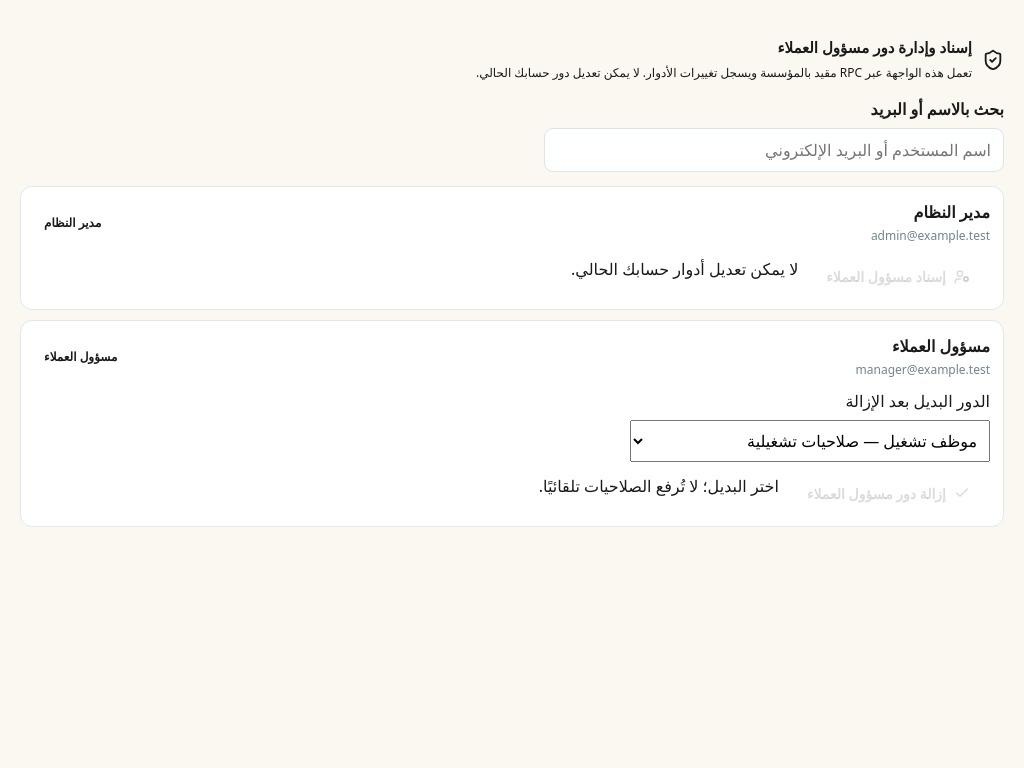
Scenario: customer-manager role assignment › requires an explicit replacement on removal and never reports an RPC failure as success
Expected: the button with aria-label "إزالة دور مسؤول العملاء من مسؤول العملاء" is disabled, left=787, top=474, right=990, bottom=513
Select "موظف تشغيل — صلاحيات تشغيلية" in the dropdown named "الدور البديل بعد إزالة مسؤول العملاء من مسؤول العملاء". click: (810, 441)
box: left=630, top=420, right=990, bottom=462
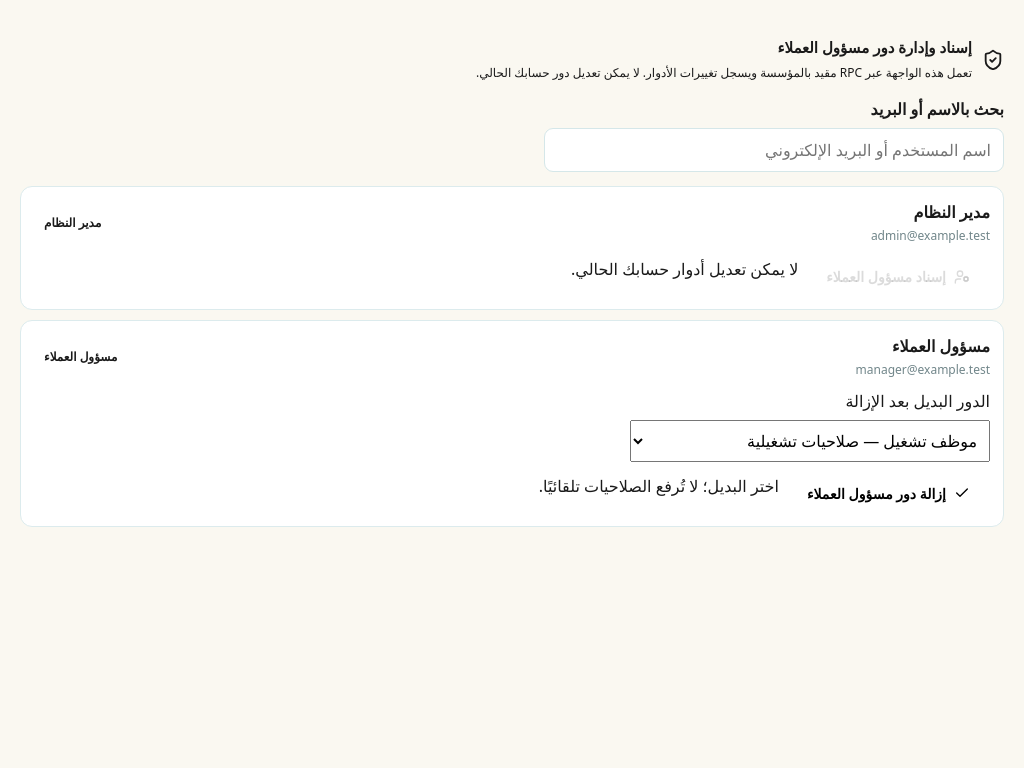
Result: the button with aria-label "إزالة دور مسؤول العملاء من مسؤول العملاء" is enabled
Click the button with aria-label "إزالة دور مسؤول العملاء من مسؤول العملاء". click: click(888, 493)
box: left=787, top=474, right=990, bottom=513
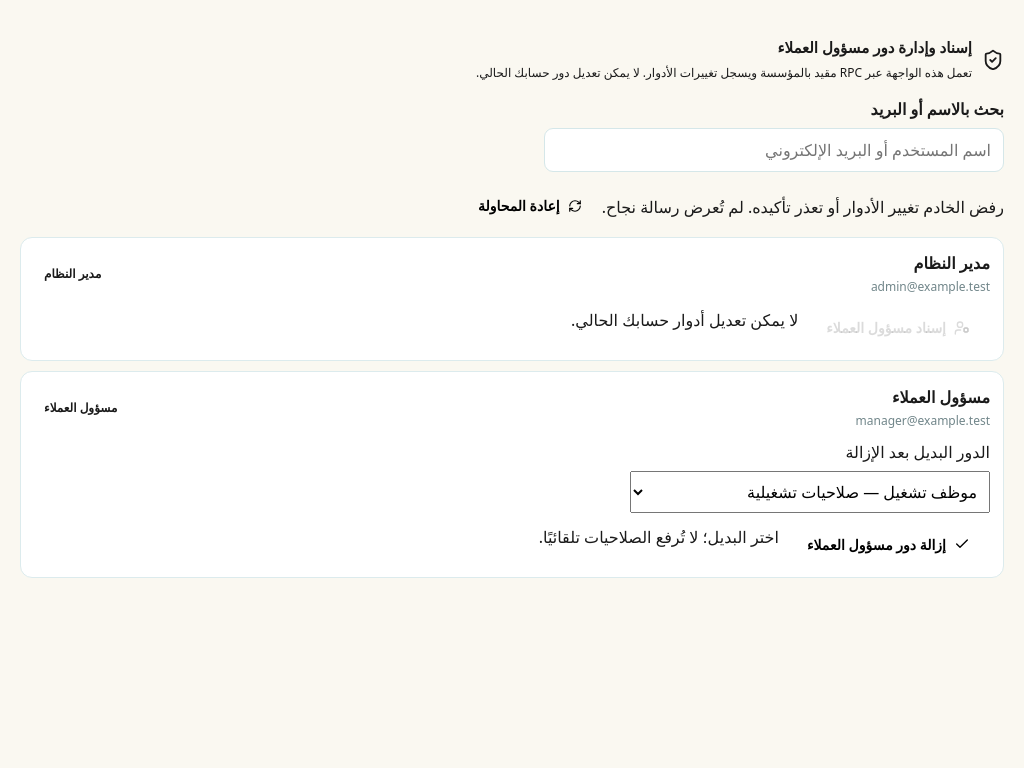
Result: the message "رفض الخادم تغيير الأدوار أو تعذر تأكيده. لم تُعرض رسالة نجاح. إعادة المحاولة" is shown at left=458, top=186, right=1004, bottom=226
